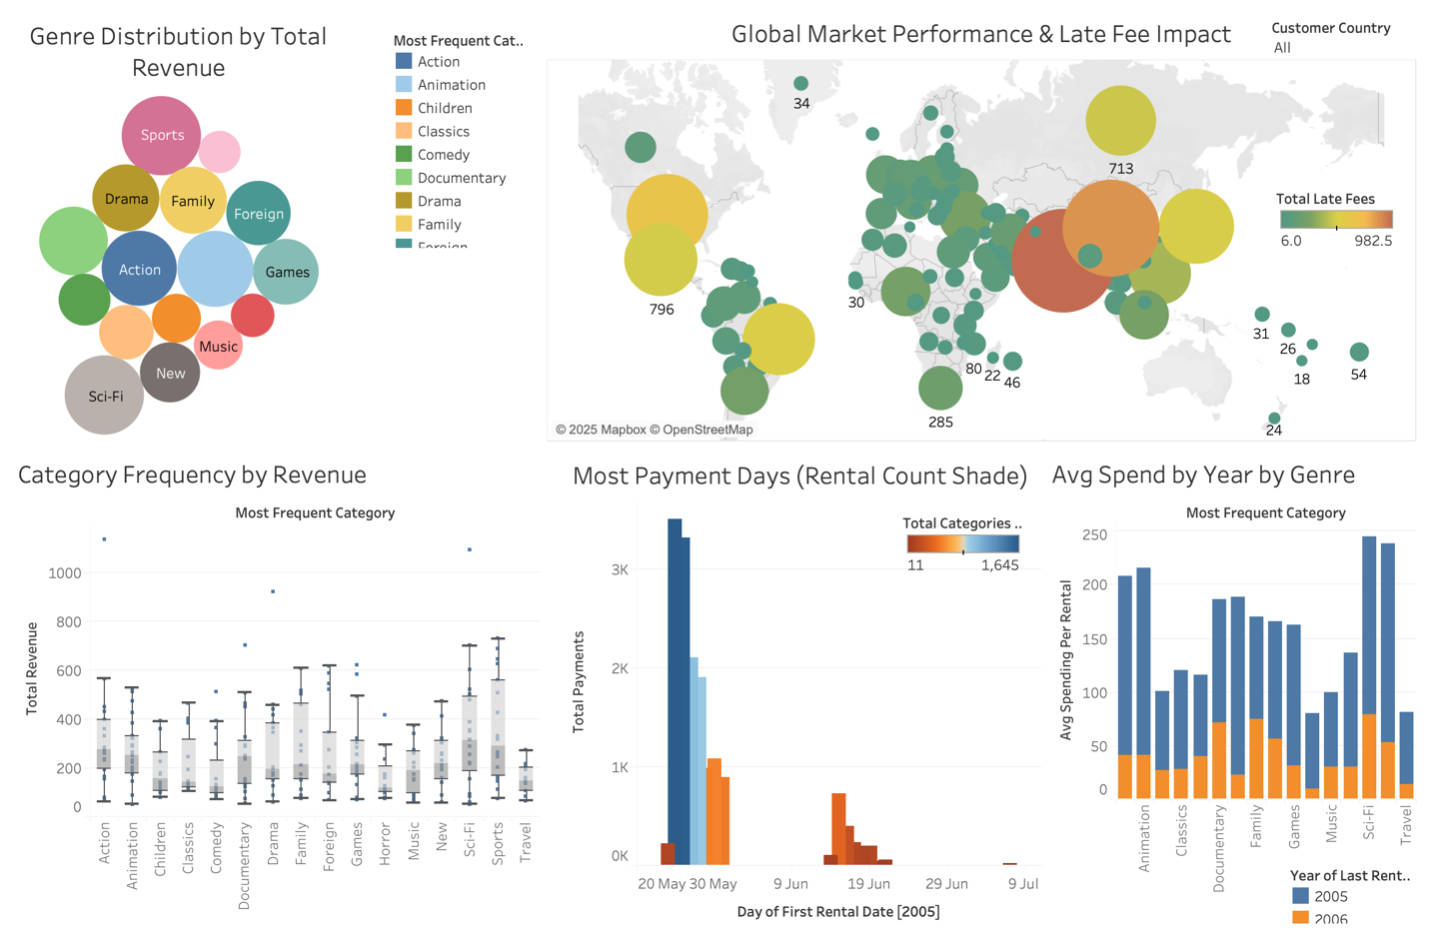

This screenshot's page, from the dashboard's own definition file:
{"tool":"tableau","page":{"name":"Dashboard 1","canvas":[1000,1000],"units":"permille","ordinal":0},"visuals":[{"type":"worksheet","title":"Global Market Performance & Late Fee Impact","mark":"Automatic","box":[382.1,10.3,608.8,460.2]},{"type":"worksheet","title":"Genre Distribution by Total Revenue","mark":"Circle","box":[5.4,12.8,341.6,450.8]},{"type":"filter","title":"Global Market Performance & Late Fee Impact","param":"[federated.1gbr2zn0v1cb971cecrbz1fghn8o].[none:Customer_Country:nk]","box":[889.4,17.1,96.7,95]},{"type":"legend","title":"Genre Distribution by Total Revenue","param":"[federated.1gbr2zn0v1cb971cecrbz1fghn8o].[none:Most_Frequent_Category:nk]","box":[274.5,29.9,91.3,233.5]},{"type":"legend","title":"Global Market Performance & Late Fee Impact","param":"[federated.1gbr2zn0v1cb971cecrbz1fghn8o].[sum:Total_Late_Fees:qk]","box":[893,195.9,84.6,85.5]},{"type":"worksheet","title":"Category Frequency by Revenue","mark":"Square","rows":["Total_Revenue"],"cols":["Most_Frequent_Category"],"box":[9.1,479,368.2,513.3]},{"type":"worksheet","title":"Avg Spend by Year by Genre","mark":"Bar","rows":["Avg_Spending_Per_Rental"],"cols":["Most_Frequent_Category"],"box":[732.2,479,257.6,494.4]},{"type":"worksheet","title":"Most Payment Days (Rental Count Shade)","mark":"Bar","rows":["Total_Payments"],"cols":["First_Rental_Date"],"box":[391.8,479.9,336.8,508.1]},{"type":"legend","title":"Most Payment Days (Rental Count Shade)","param":"[federated.1gbr2zn0v1cb971cecrbz1fghn8o].[sum:Total_Categories_Rented:qk]","box":[631.8,540.6,84.6,85.5]},{"type":"legend","title":"Avg Spend by Year by Genre","param":"[federated.1gbr2zn0v1cb971cecrbz1fghn8o].[yr:Last_Rental_Date:ok]","box":[901.5,917.9,84.6,65]}]}

Visuals, with their boxes on the dashboard's canvas, which has no fixed pixel size, in thousandths of its width and height (x1, y1, x2, y2). These are canvas units, not pixel positions in the 1430x944 screenshot, which may show the page scaled, cropped or inside an application window:
"Global Market Performance & Late Fee Impact" worksheet: [x1=382, y1=10, x2=991, y2=470]
"Genre Distribution by Total Revenue" worksheet (Circle marks): [x1=5, y1=13, x2=347, y2=464]
"Global Market Performance & Late Fee Impact" filter: [x1=889, y1=17, x2=986, y2=112]
"Genre Distribution by Total Revenue" legend: [x1=274, y1=30, x2=366, y2=263]
"Global Market Performance & Late Fee Impact" legend: [x1=893, y1=196, x2=978, y2=281]
"Category Frequency by Revenue" worksheet (Square marks): [x1=9, y1=479, x2=377, y2=992]
"Avg Spend by Year by Genre" worksheet (Bar marks): [x1=732, y1=479, x2=990, y2=973]
"Most Payment Days (Rental Count Shade)" worksheet (Bar marks): [x1=392, y1=480, x2=729, y2=988]
"Most Payment Days (Rental Count Shade)" legend: [x1=632, y1=541, x2=716, y2=626]
"Avg Spend by Year by Genre" legend: [x1=902, y1=918, x2=986, y2=983]
